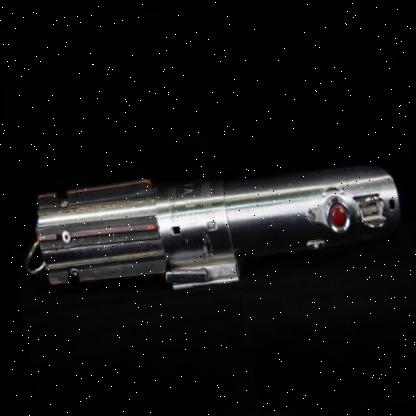lightsaber: (7, 135, 413, 323)
